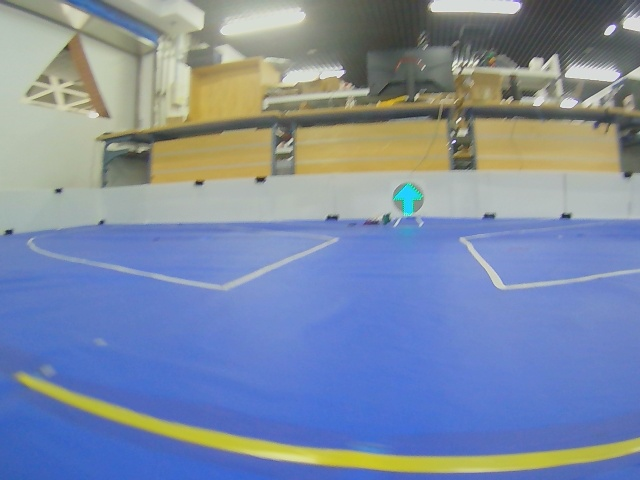straight_green: (393, 183, 424, 216)
